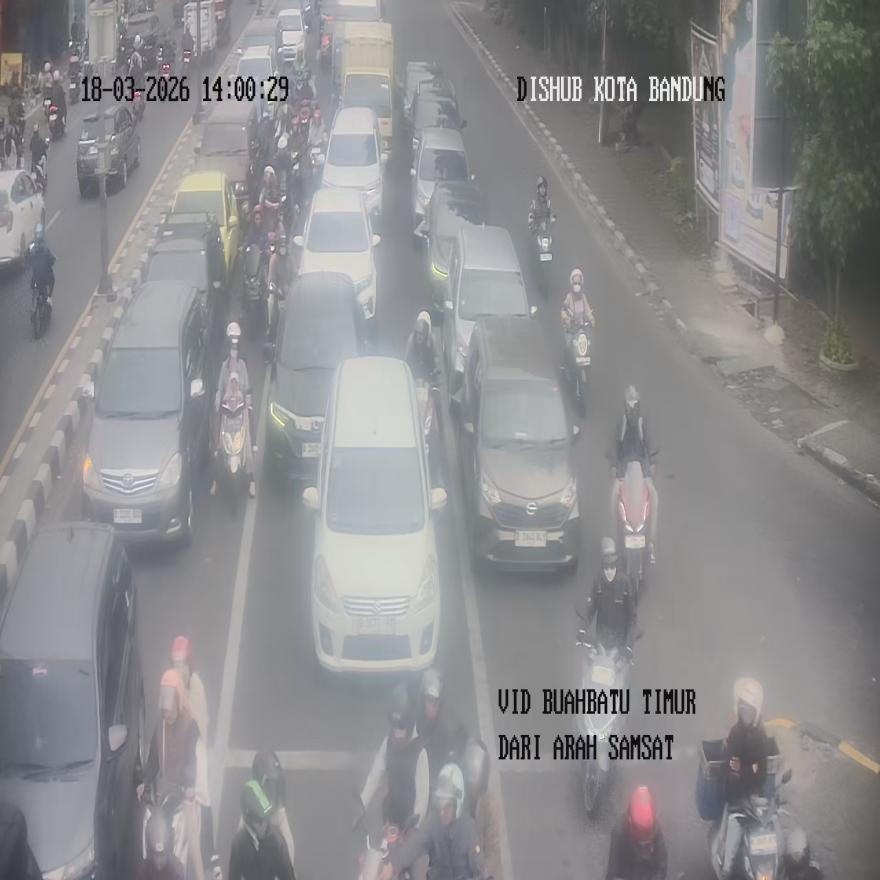Mobil: (0, 520, 145, 878), (302, 356, 447, 676), (81, 281, 208, 546), (459, 316, 581, 568), (262, 271, 367, 479), (443, 220, 536, 398), (292, 187, 380, 321), (320, 105, 383, 232)
Motor: (574, 609, 639, 814), (708, 766, 790, 880), (612, 452, 657, 597), (606, 786, 666, 879), (138, 782, 188, 880), (564, 319, 592, 418), (29, 236, 55, 338), (241, 240, 267, 339), (530, 210, 554, 298), (30, 280, 53, 338), (67, 51, 83, 105), (46, 101, 65, 143), (31, 151, 47, 192)
